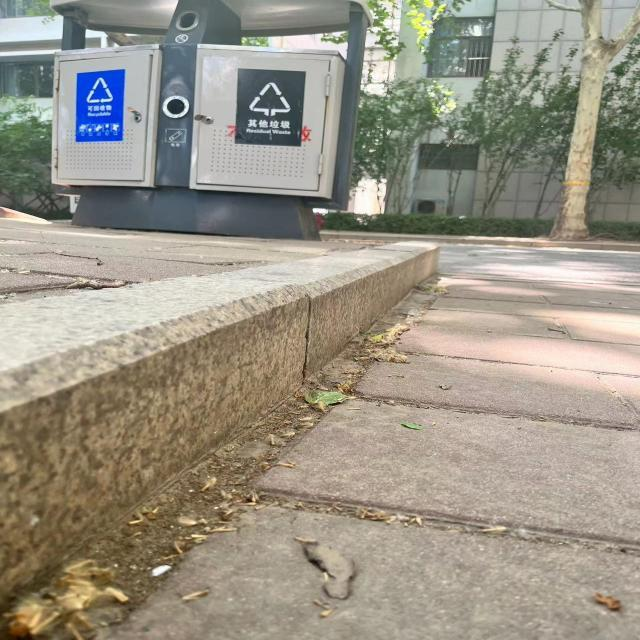bump: (0, 238, 460, 516)
